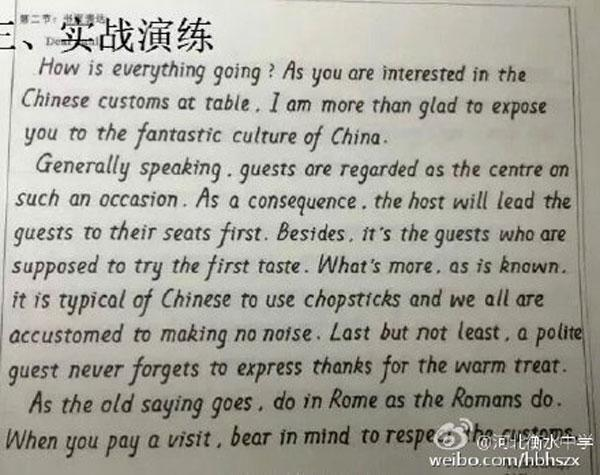text: (4, 421, 580, 463), (4, 352, 571, 390), (26, 384, 565, 422), (6, 319, 584, 354), (19, 86, 550, 124), (9, 249, 567, 285), (33, 149, 570, 186), (11, 184, 574, 219), (9, 285, 547, 321), (9, 219, 570, 252), (34, 54, 527, 89), (19, 120, 391, 155), (426, 451, 583, 469)
